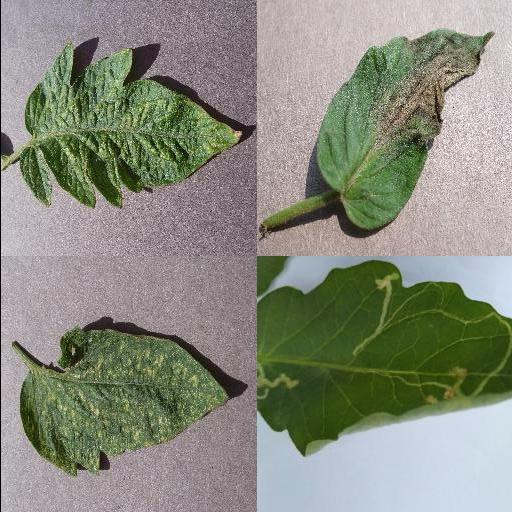Late Blight: (314, 28, 494, 228)
Leaf Miner: (256, 260, 512, 456)
Spider Mites: (19, 44, 245, 209), (17, 326, 231, 476)
